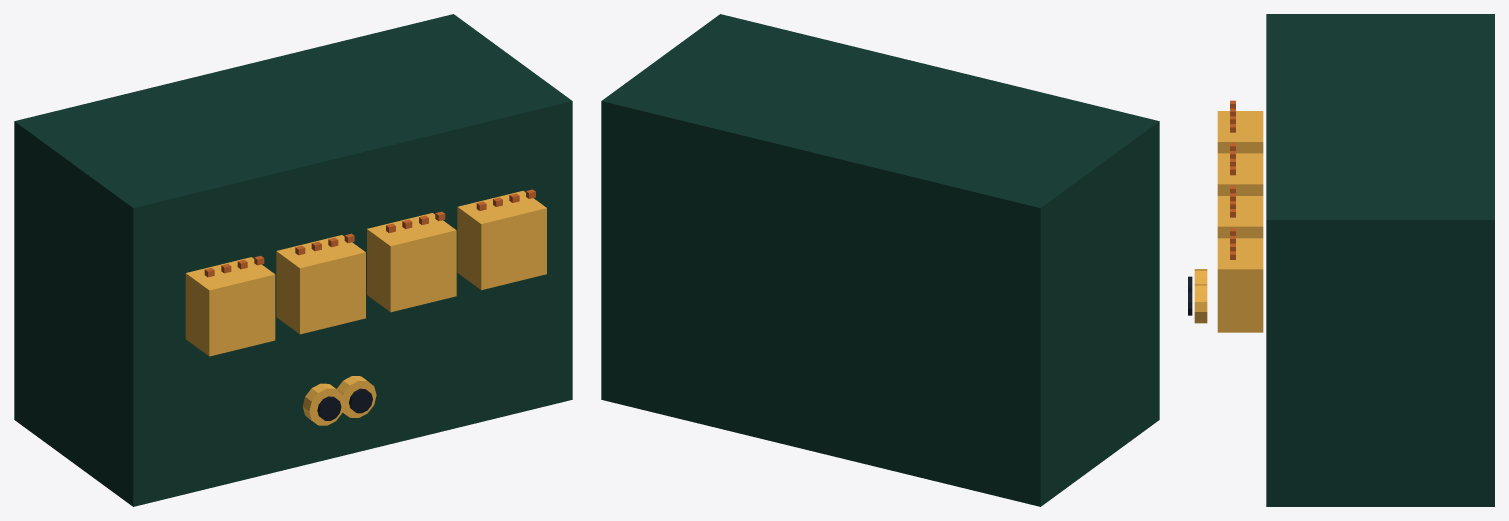
File: 06_L84_FourChipletMissionPayload.fbx
3 renders of one model, left to right at view 1: azimuth 30°, elevation 25°; view 2: azimuth 150°, elevation 25°; view 3: azimuth 270°, elevation 25°, orthographic. The views are drawn at different scales.
Parts seen in each view (by area): view 1: L84_FourChipletMissionPayload, L84_FourChipletMissionPayload_Part_0004, L84_FourChipletMissionPayload_Part_0006; view 2: L84_FourChipletMissionPayload; view 3: L84_FourChipletMissionPayload, L84_FourChipletMissionPayload_Part_0006.
Boxes of the visible parts, x1,y1,x2,y2 form: L84_FourChipletMissionPayload: (14, 14, 572, 506); L84_FourChipletMissionPayload_Part_0004: (302, 383, 344, 425); L84_FourChipletMissionPayload_Part_0006: (337, 376, 376, 417); L84_FourChipletMissionPayload: (601, 14, 1159, 506); L84_FourChipletMissionPayload: (1217, 14, 1494, 506); L84_FourChipletMissionPayload_Part_0006: (1194, 284, 1207, 323).
Bounding box in the file's own units: 160 × 104 × 101.
